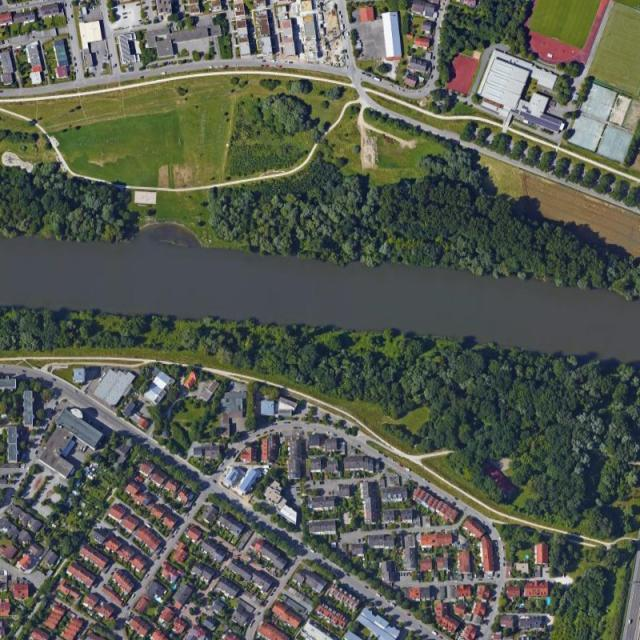vehicle: (372, 77, 382, 83), (630, 620, 633, 626), (270, 60, 275, 62)
